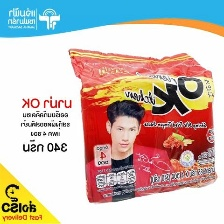snack: (63, 41, 223, 209)
